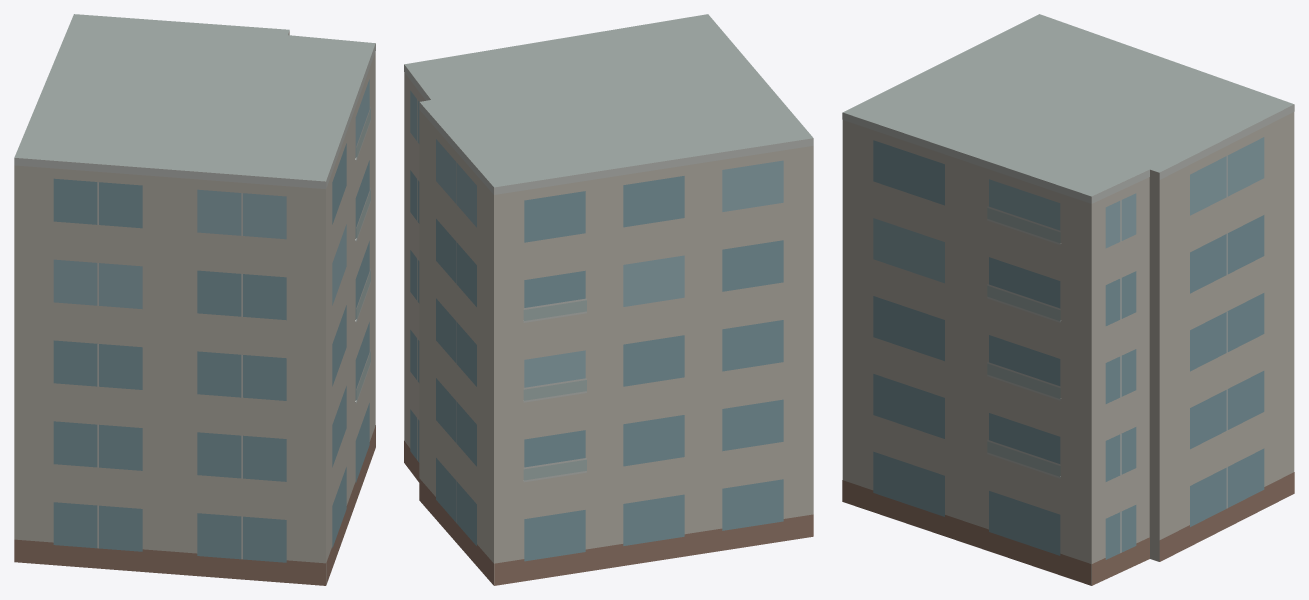
The model's file is survey-upis-33039540.glb.
3 renders of one model, left to right at view 1: azimuth 30°, elevation 25°; view 2: azimuth 150°, elevation 25°; view 3: azimuth 270°, elevation 25°, orthographic. The views are drawn at different scales.
Parts seen in each view (by area): view 1: survey-upis-33039540.tmp; view 2: survey-upis-33039540.tmp; view 3: survey-upis-33039540.tmp.
Boxes of the visible parts, x1,y1,x2,y2 form: survey-upis-33039540.tmp: [14, 14, 375, 585]; survey-upis-33039540.tmp: [404, 14, 813, 585]; survey-upis-33039540.tmp: [842, 14, 1294, 585].
Bounding box in the file's own units: 12.93 × 12.85 × 13.53.
